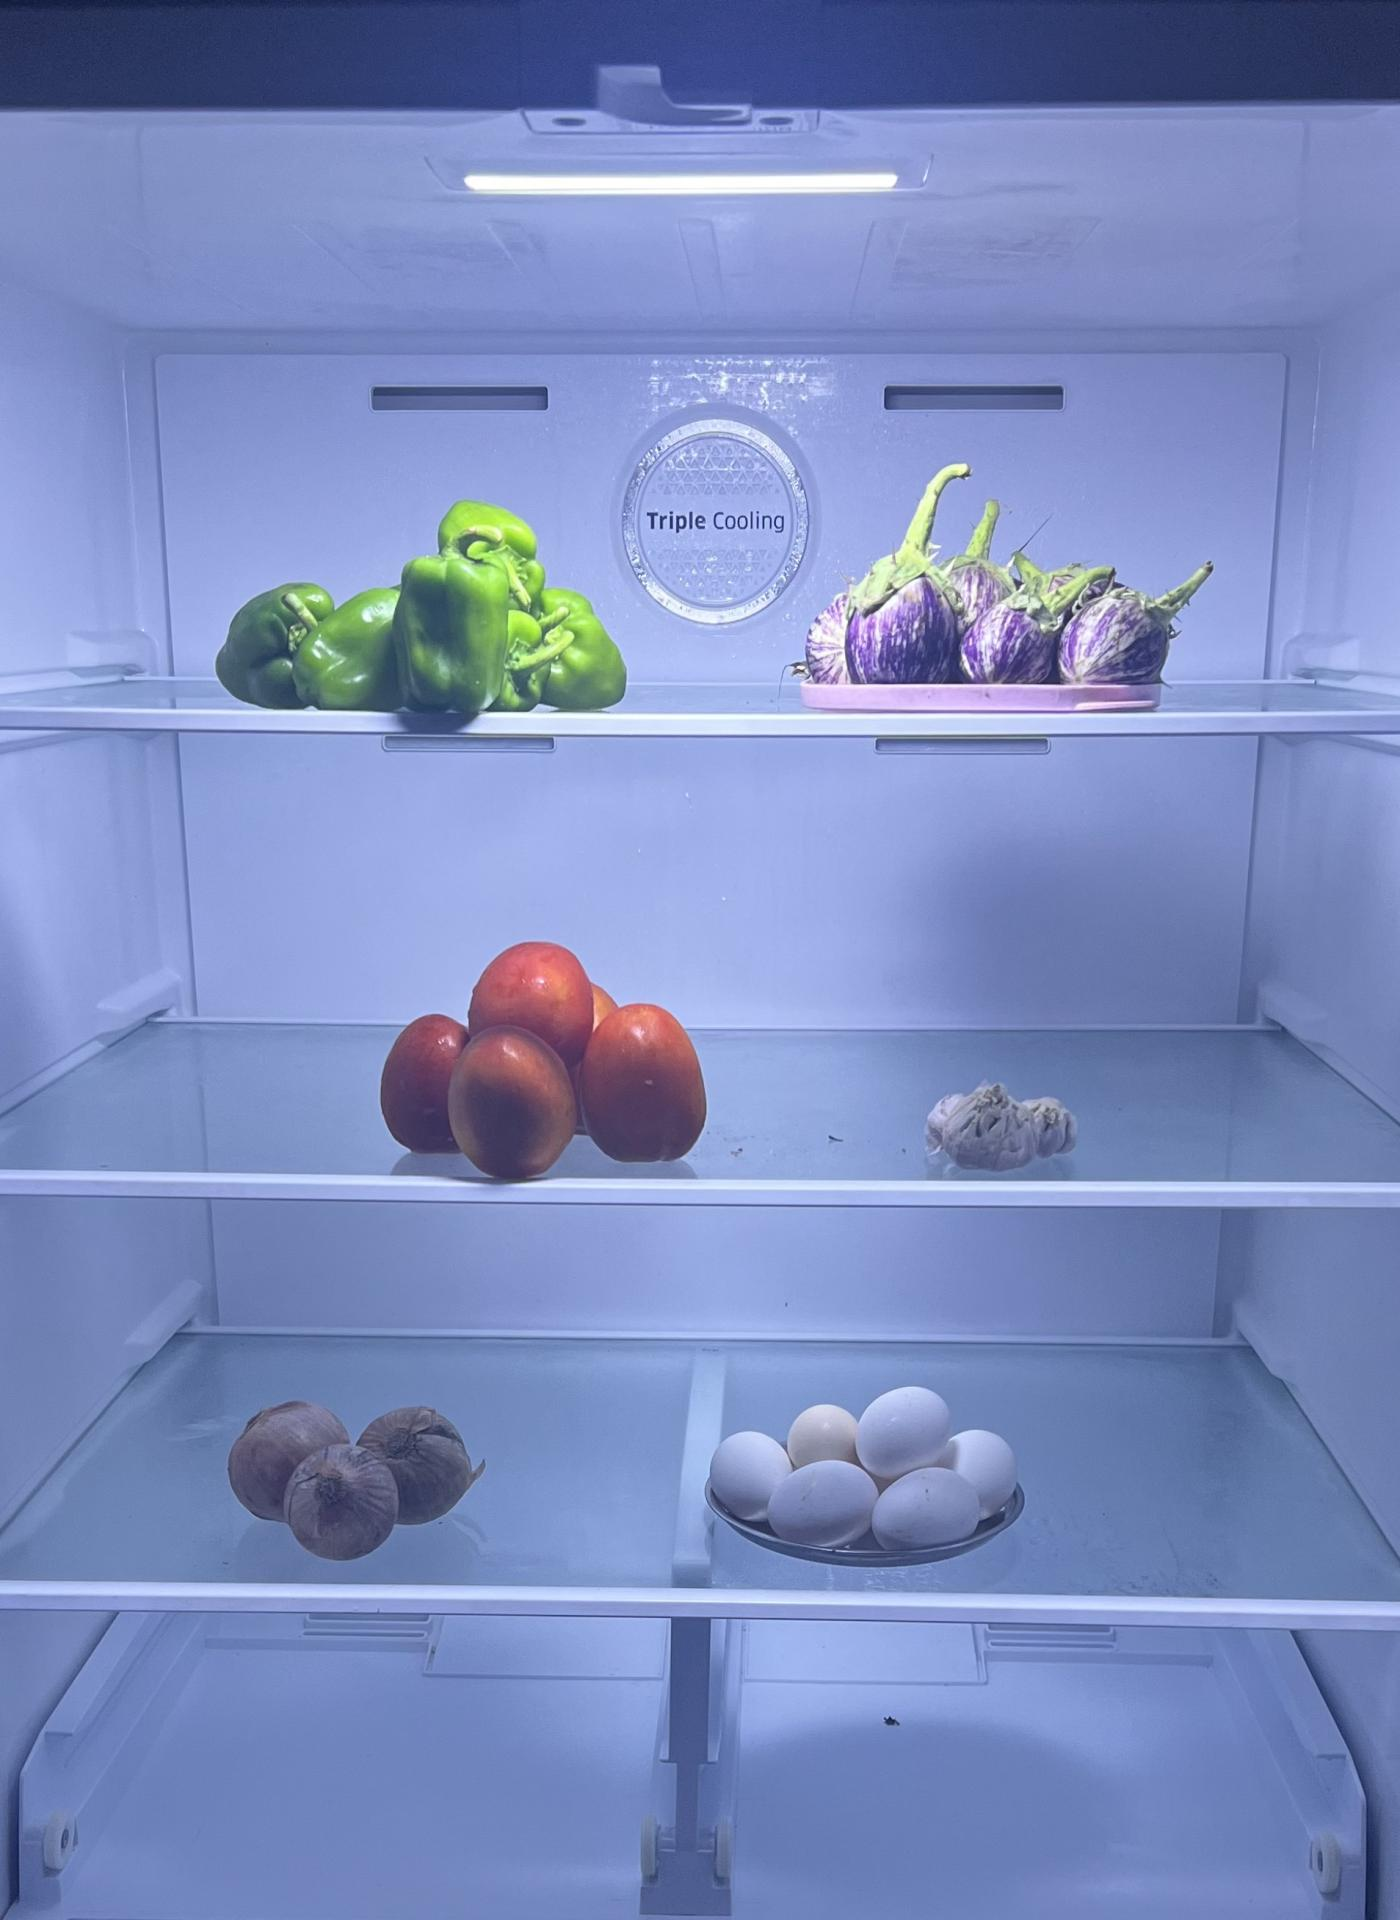brinjal: (790, 537, 1181, 701), (233, 1386, 479, 1552)
capsicum: (215, 541, 641, 724)
egg: (717, 1374, 1036, 1550)
garlic: (921, 1066, 1079, 1173)
tomato: (379, 933, 716, 1176)
